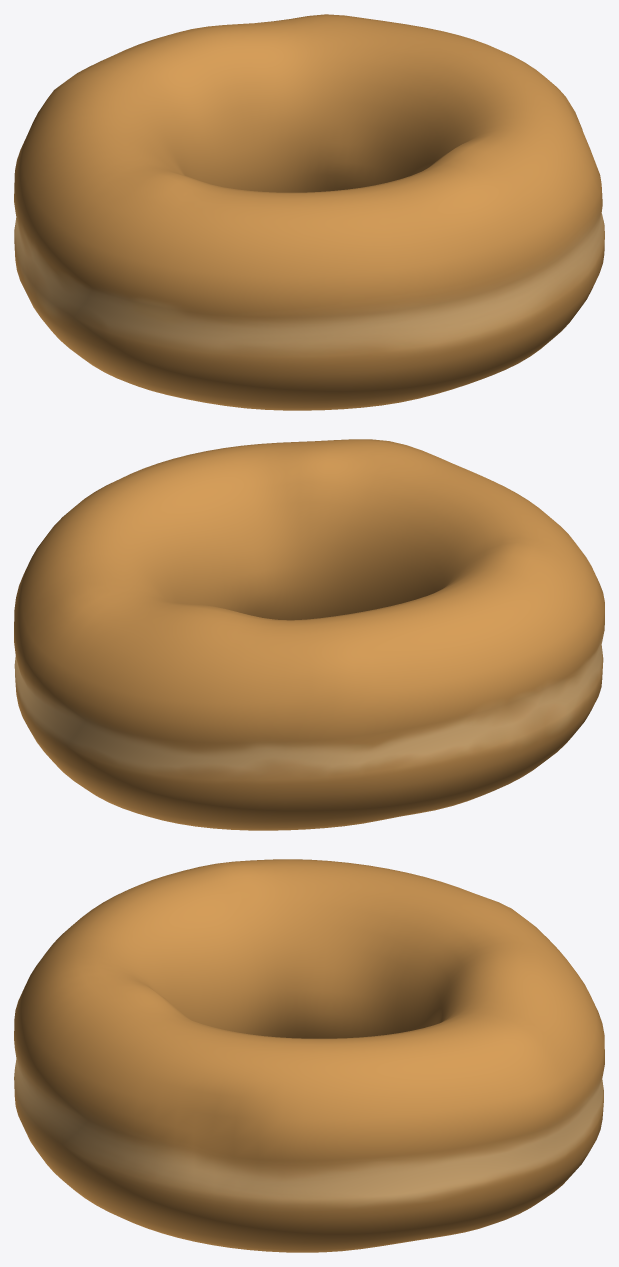
File: dough.glb
3 renders of one model, top to bottom at view 1: azimuth 30°, elevation 25°; view 2: azimuth 150°, elevation 25°; view 3: azimuth 270°, elevation 25°, orthographic. The views are drawn at different scales.
Visible parts, largest first — view 1: donut; view 2: donut; view 3: donut.
Part boxes in pixels (x1,y1,x2,y2): donut: (14,14,604,410); donut: (14,439,604,830); donut: (14,859,604,1252).
Bounding box in the file's own units: 0.15 × 0.06 × 0.15.
1 material, 1 textured.
